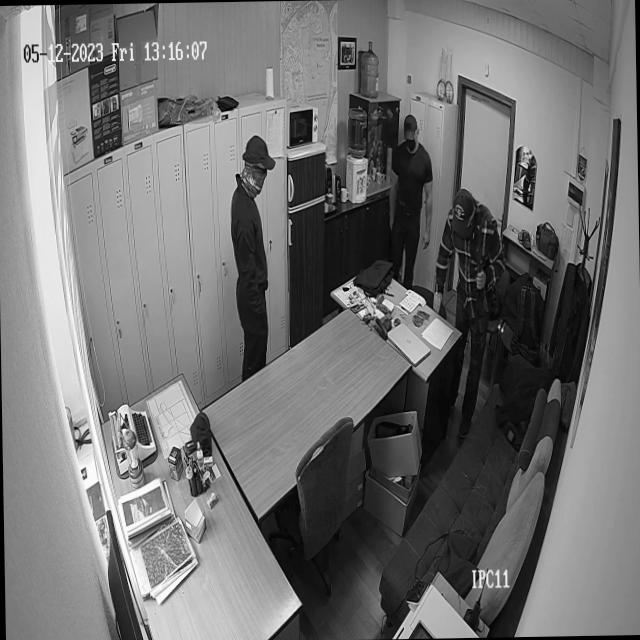gun: (467, 243, 486, 348)
person: (226, 137, 272, 383), (385, 115, 432, 288)
person with a gun: (431, 187, 506, 440)
